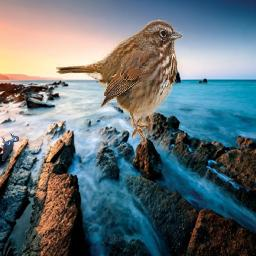Sparrow: (57, 20, 184, 149)
Woodpecker: (1, 133, 19, 162)
